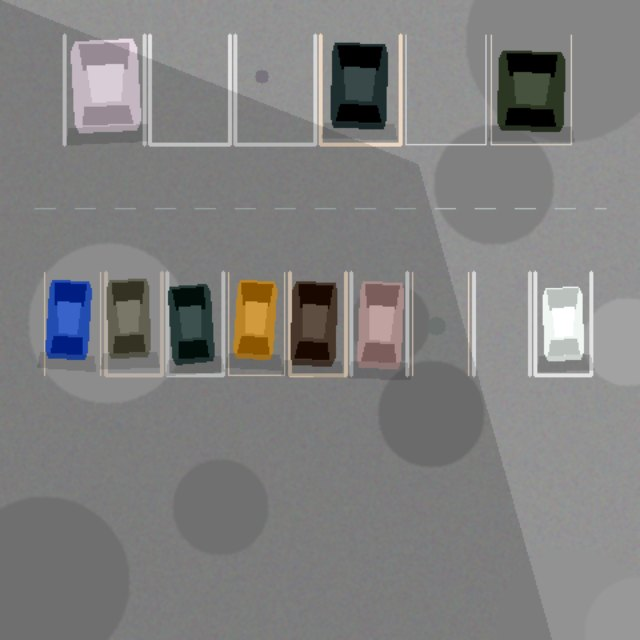space-empty: (149, 35, 229, 144), (235, 35, 315, 144), (405, 35, 485, 144), (412, 272, 468, 375), (473, 272, 529, 375)
space-occupied: (64, 35, 144, 144), (320, 35, 400, 144), (491, 35, 571, 144), (44, 272, 100, 375), (105, 272, 161, 375), (167, 272, 223, 375), (228, 272, 284, 375), (289, 272, 345, 375), (351, 272, 407, 375), (535, 272, 591, 375)
